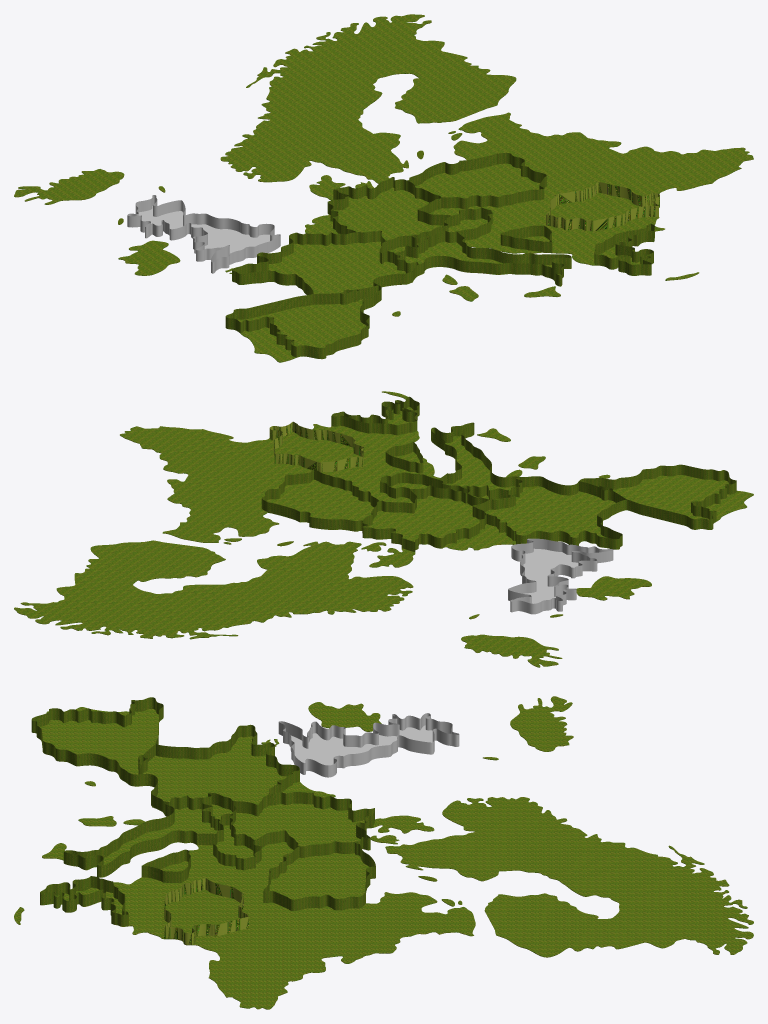
Rendered from europesamba.FBX.
The picture shows the model from 3 angles, top to bottom: view 1: azimuth 30°, elevation 25°; view 2: azimuth 150°, elevation 25°; view 3: azimuth 270°, elevation 25°; orthographic projection. The views are drawn at different scales.
Visible parts, largest first — view 1: Shape47, Shape52, Shape26, Shape21, Shape29, Shape29_side, Shape42_side, Shape55_side, Shape31_side, Shape31, Shape25, Shape3_side (+19 smaller); view 2: Shape47, Shape52, Shape26, Shape21, Shape29, Shape42_side, Shape31_side, Shape29_side, Shape25, Shape31, Shape3, Shape63 (+20 smaller); view 3: Shape47, Shape52, Shape26, Shape21, Shape29, Shape42_side, Shape31, Shape55_side, Shape25, Shape29_side, Shape3, Shape63 (+22 smaller).
Part boxes in pixels (x1,y1,x2,y2): Shape47: [285, 56, 408, 183]; Shape52: [220, 14, 431, 182]; Shape26: [323, 26, 516, 123]; Shape21: [543, 146, 753, 205]; Shape29: [232, 241, 418, 294]; Shape29_side: [232, 230, 418, 304]; Shape42_side: [127, 195, 280, 273]; Shape55_side: [395, 231, 571, 285]; Shape31_side: [225, 285, 381, 358]; Shape31: [226, 299, 381, 359]; Shape25: [334, 187, 443, 240]; Shape3_side: [407, 153, 546, 208]; Shape47: [123, 541, 361, 627]; Shape52: [14, 571, 413, 639]; Shape26: [43, 540, 225, 624]; Shape21: [120, 426, 311, 491]; Shape29: [485, 486, 626, 549]; Shape42_side: [508, 538, 613, 613]; Shape31_side: [579, 464, 736, 529]; Shape29_side: [473, 476, 627, 549]; Shape25: [362, 495, 479, 549]; Shape31: [613, 475, 728, 529]; Shape3: [266, 479, 374, 531]; Shape63: [167, 473, 265, 510]; Shape47: [385, 835, 698, 911]; Shape52: [442, 797, 753, 954]; Shape26: [484, 893, 725, 957]; Shape21: [192, 900, 325, 1009]; Shape29: [140, 736, 286, 812]; Shape42_side: [278, 713, 459, 776]; Shape31: [32, 709, 163, 786]; Shape55_side: [63, 796, 223, 877]; Shape25: [233, 803, 373, 850]; Shape29_side: [139, 724, 299, 816]; Shape3: [269, 853, 375, 908]; Shape63: [306, 906, 402, 963].
Size of the model in its own units: 2745394 by 49358 by 2742470.
